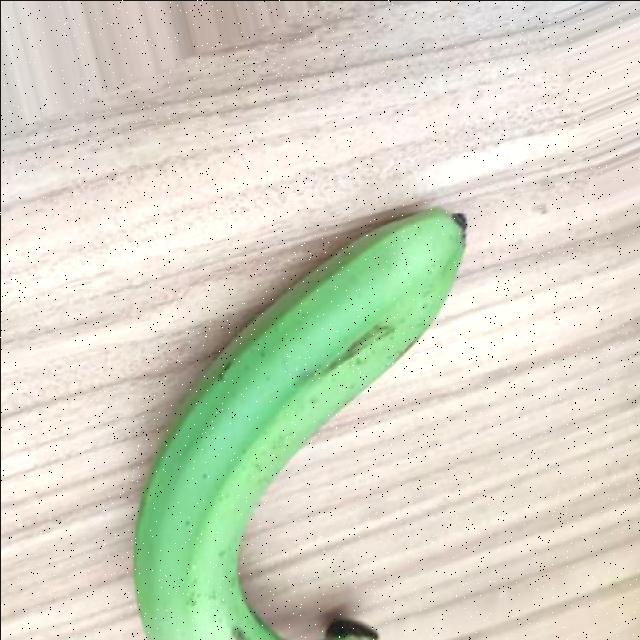Unripe: (132, 206, 469, 640)
